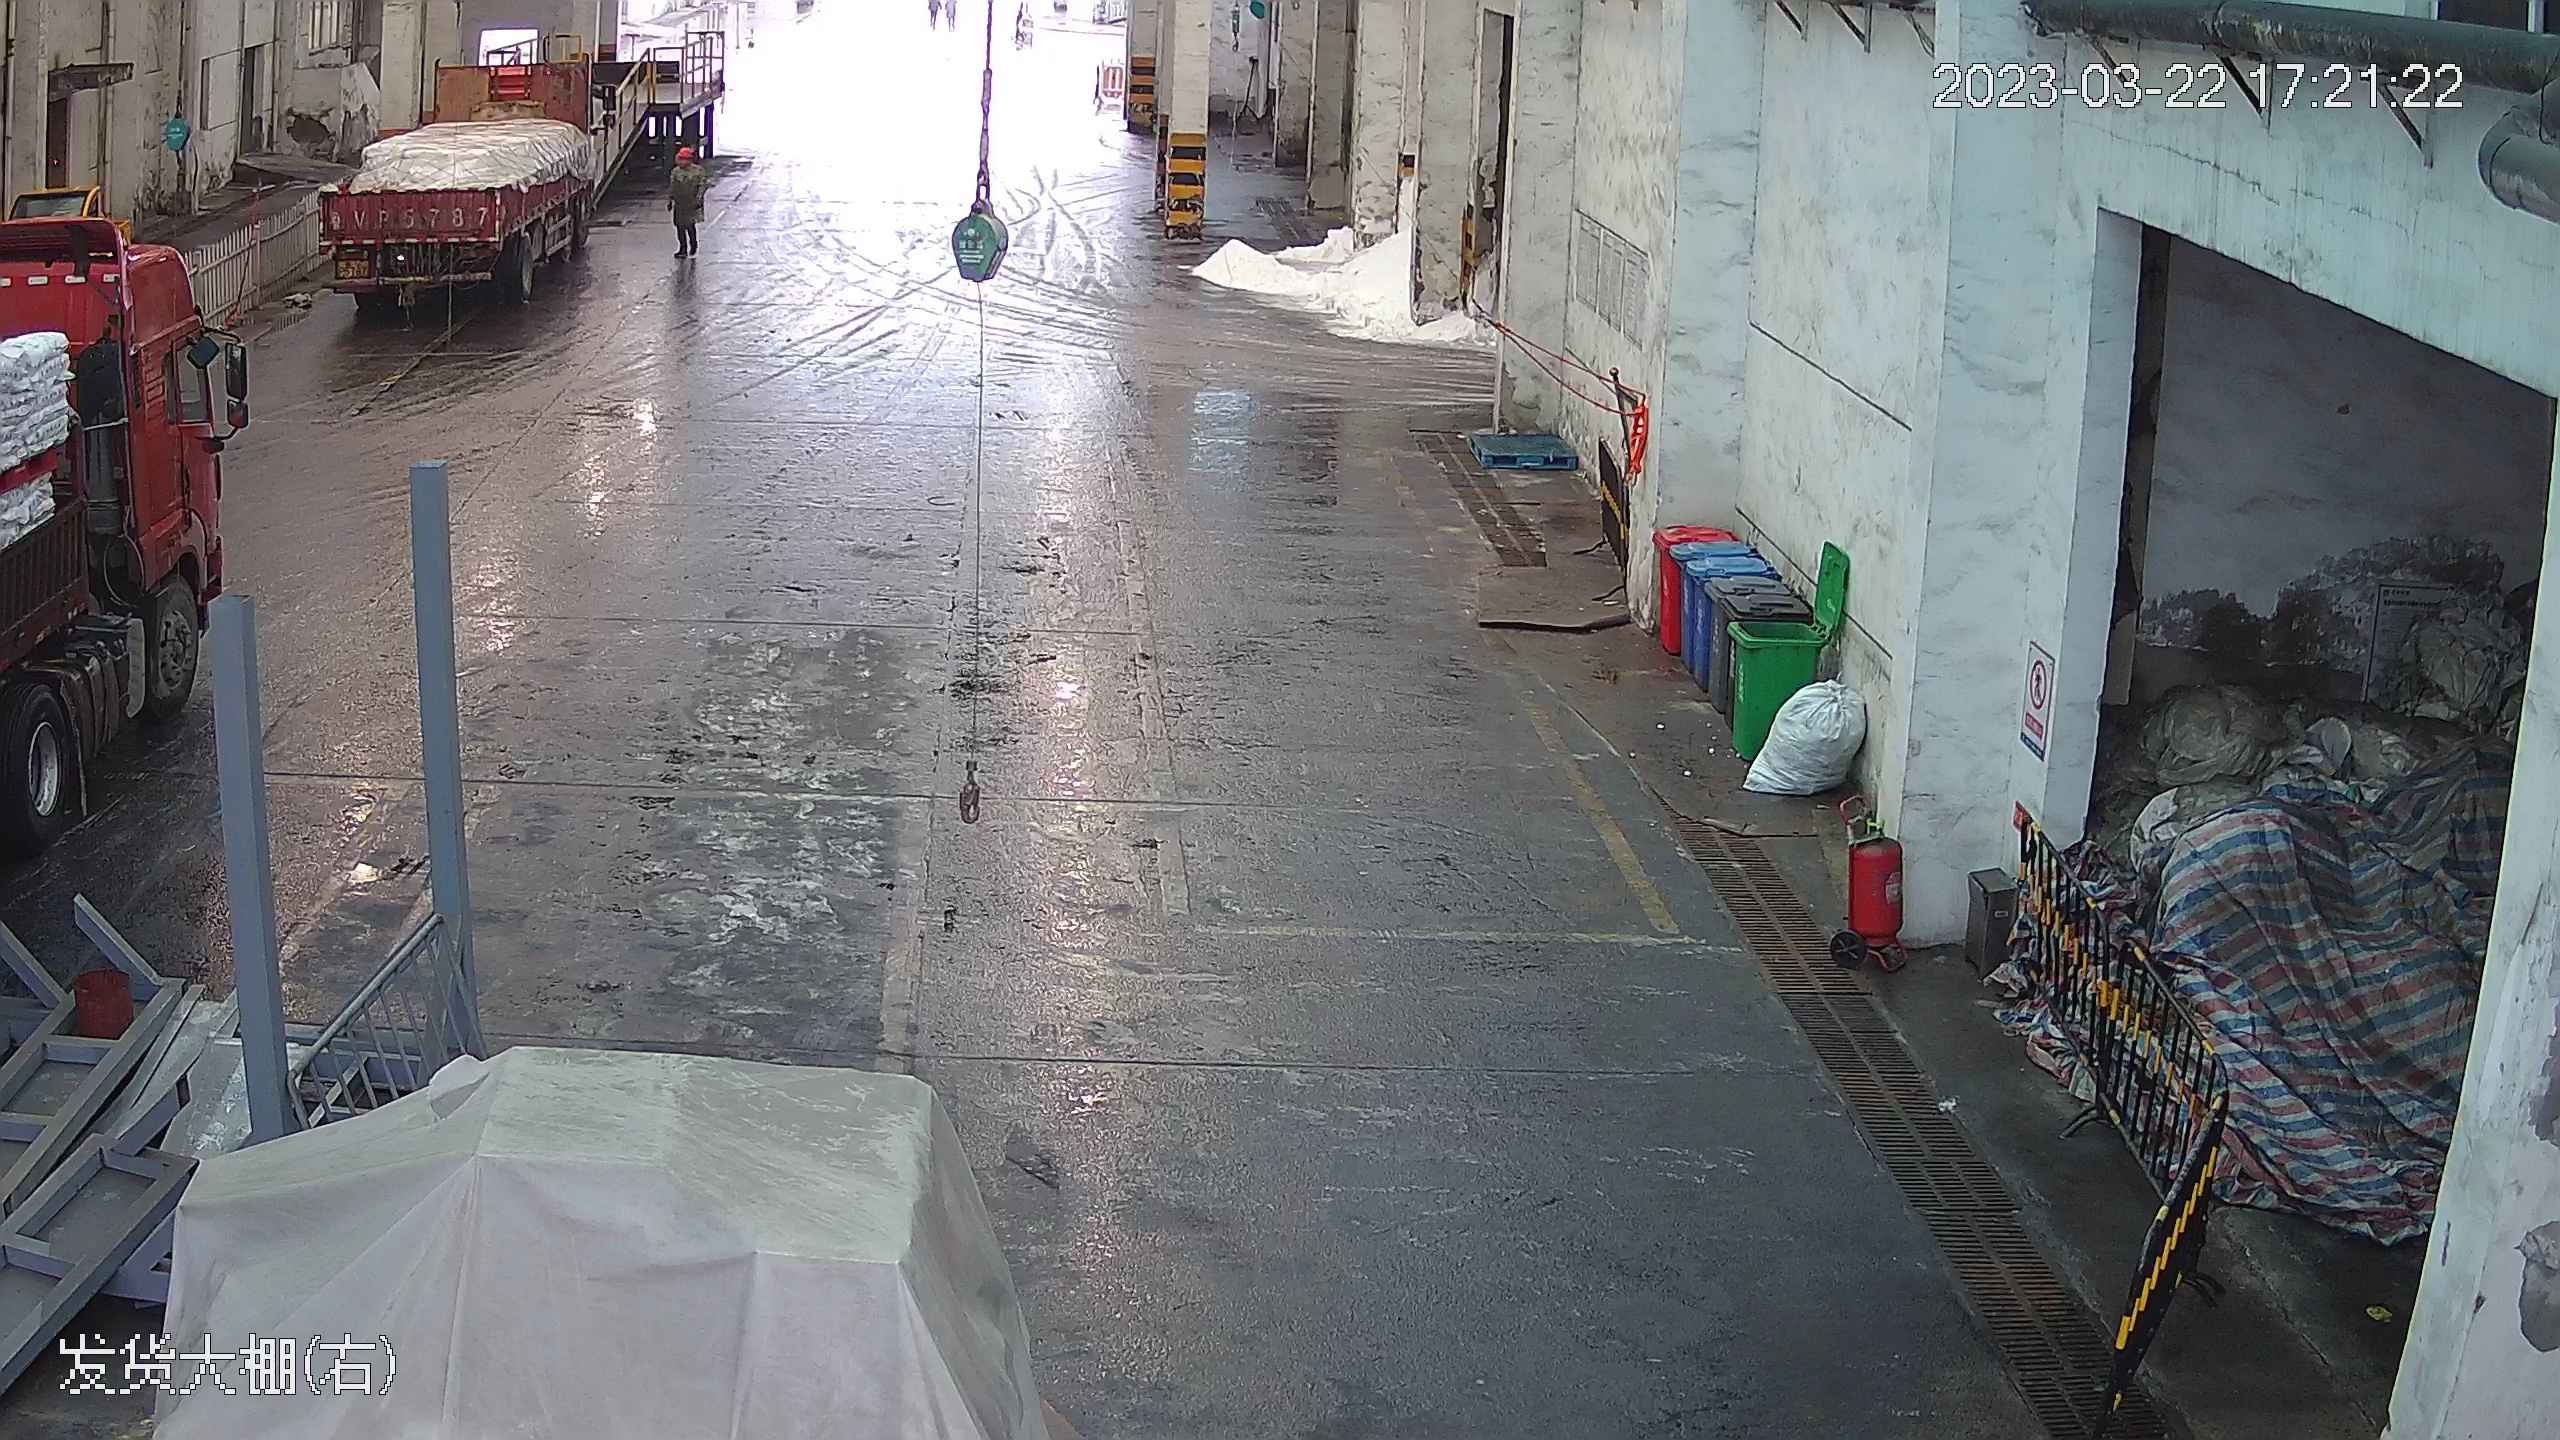head: (664, 142, 698, 185)
helmet: (674, 144, 693, 160)
people: (662, 142, 701, 274)
truck: (1, 218, 250, 1072), (301, 10, 635, 316)
